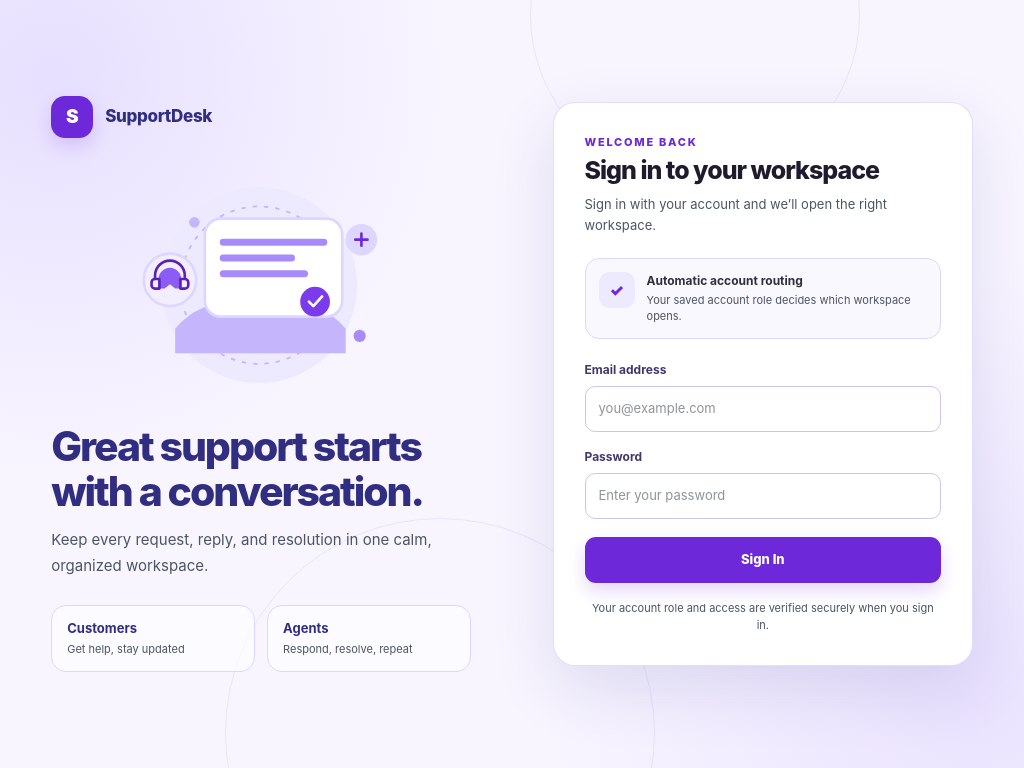
Scenario: Login Page › shows validation errors when email and password are empty
The image size is (1024, 768).
Click the button "Sign In".
click(763, 560)  # box [584,537,941,583]
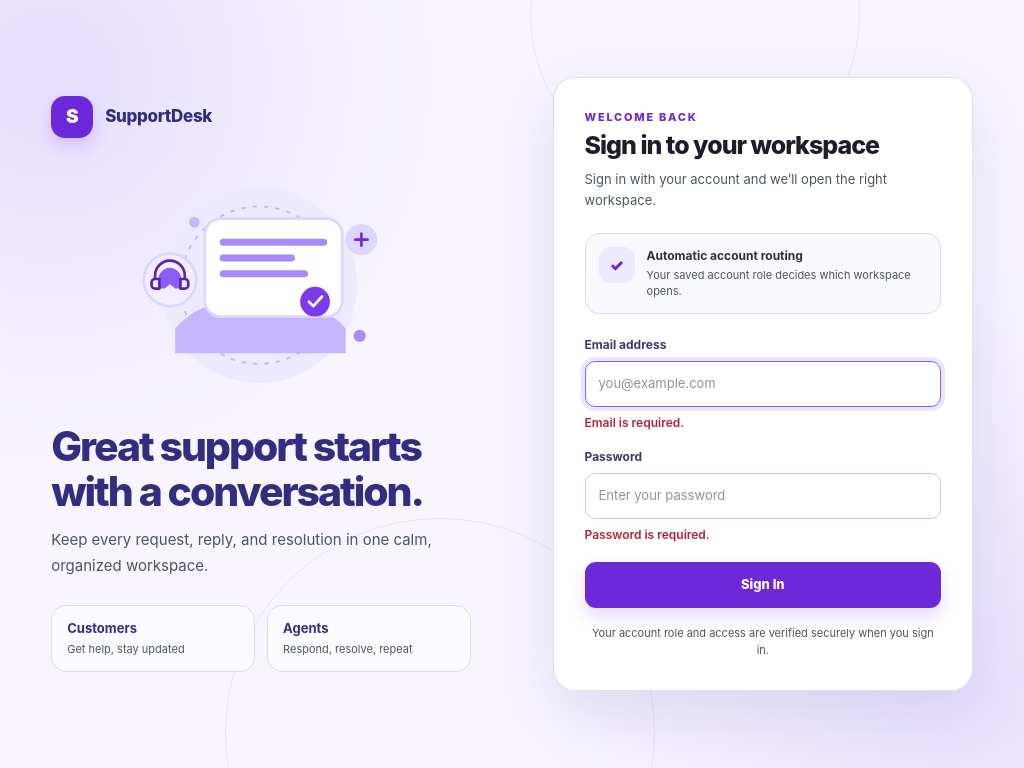
Check: the text "Email is required." is shown, box [584,415,684,430]
Check: the text "Password is required." is shown, box [584,527,710,542]
